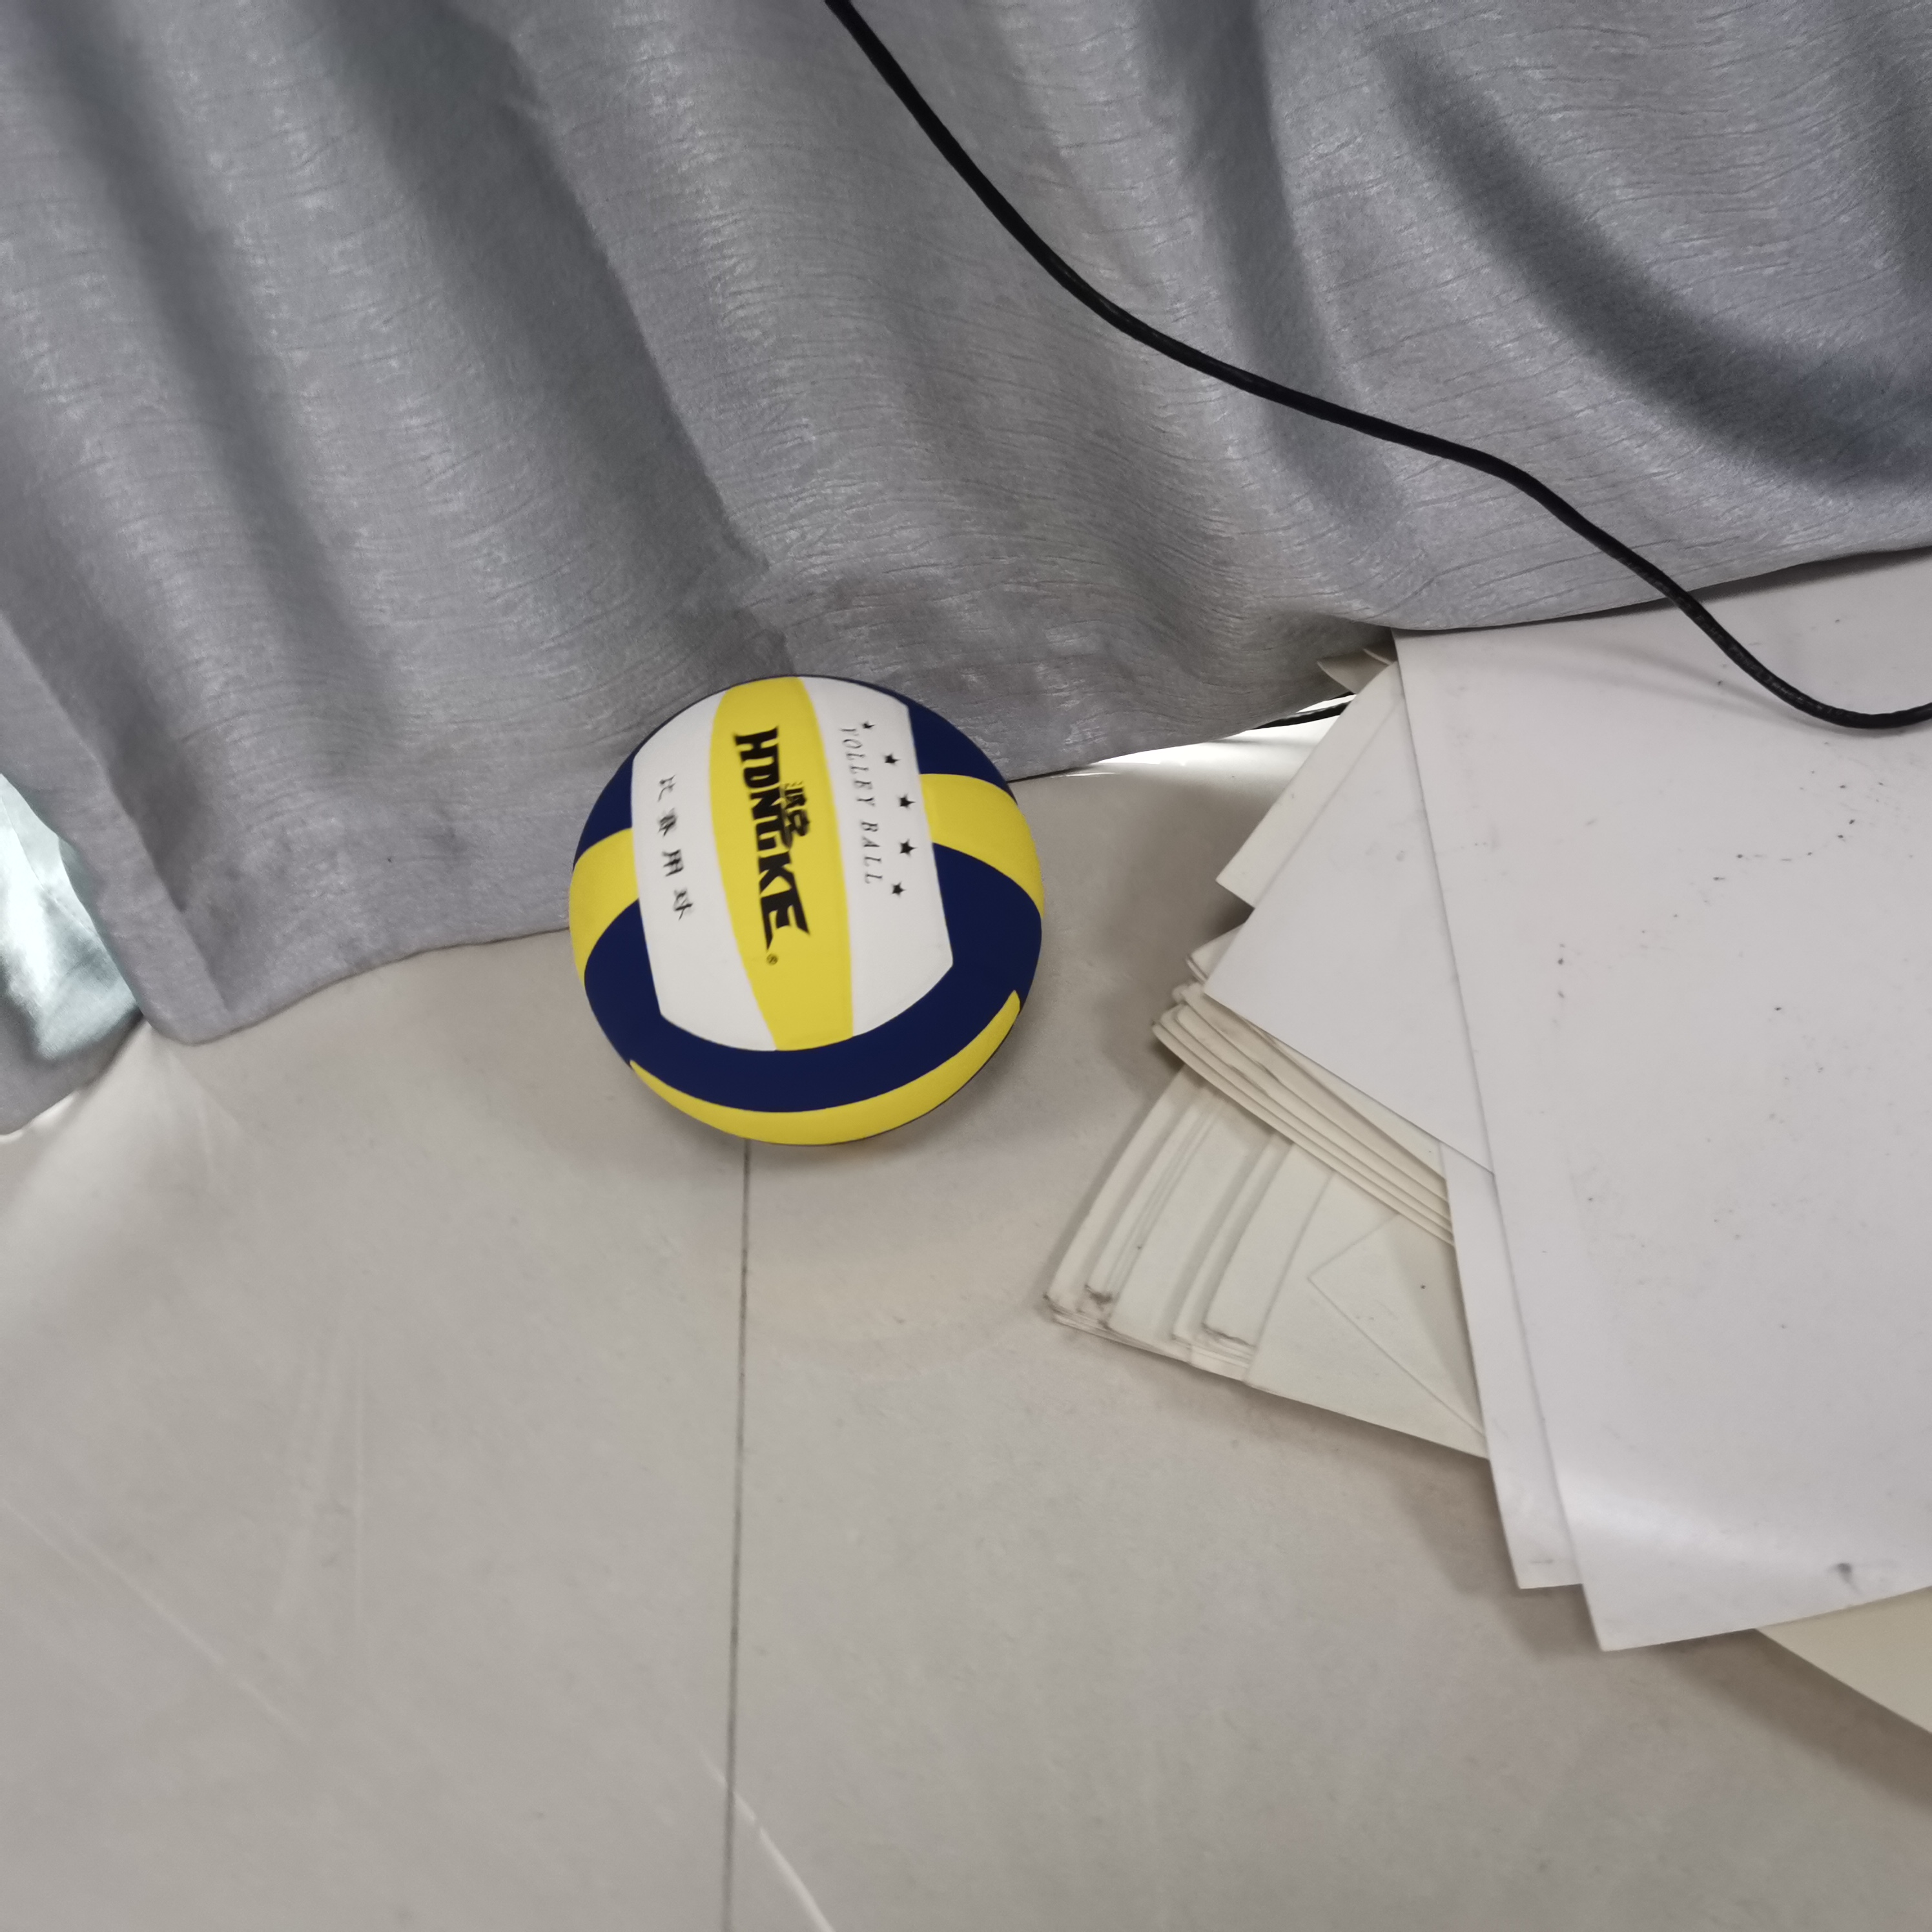volleyball: (564, 672, 1042, 1157)
